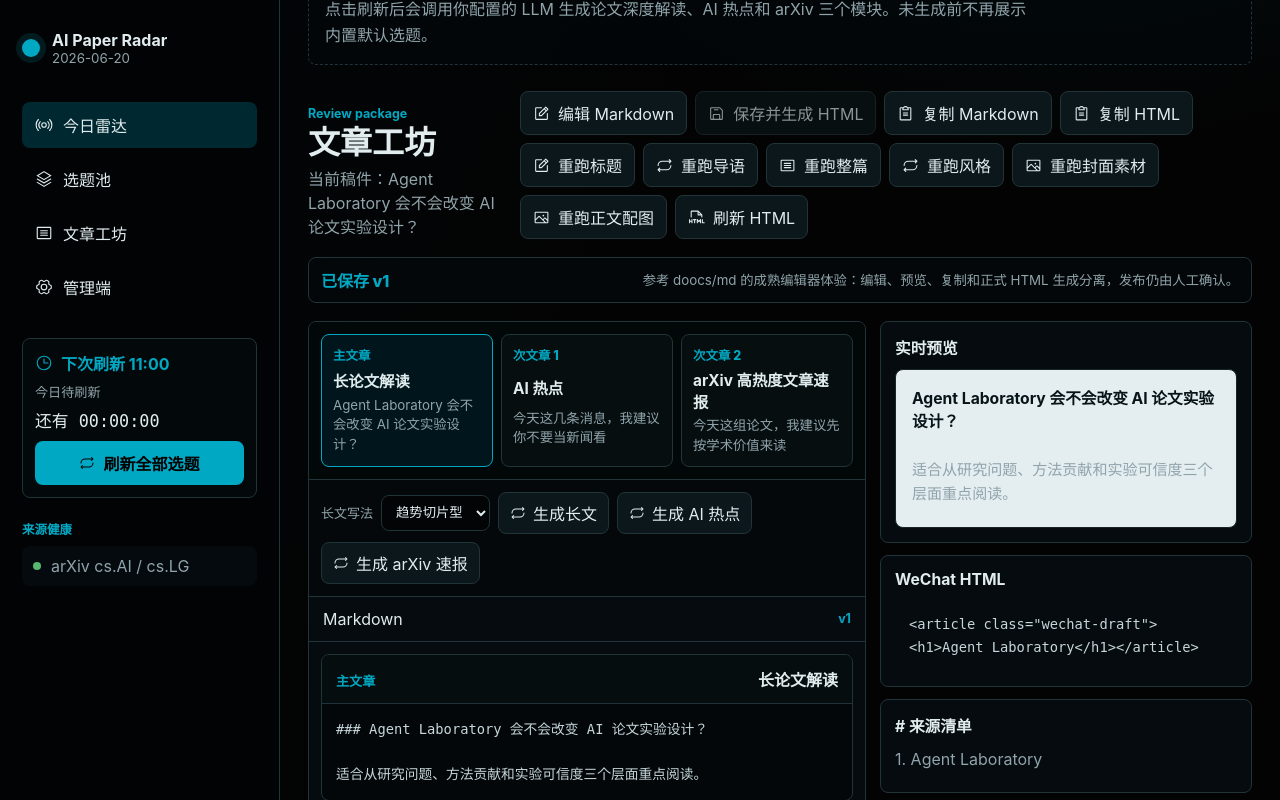
Test: updates the live preview to only render the selected article module
(page scrolled)
Click the tab "次文章 1 AI 热点 今天这几条消息，我建议你不要当新闻看" at (587, 400), box [501,334,673,467]
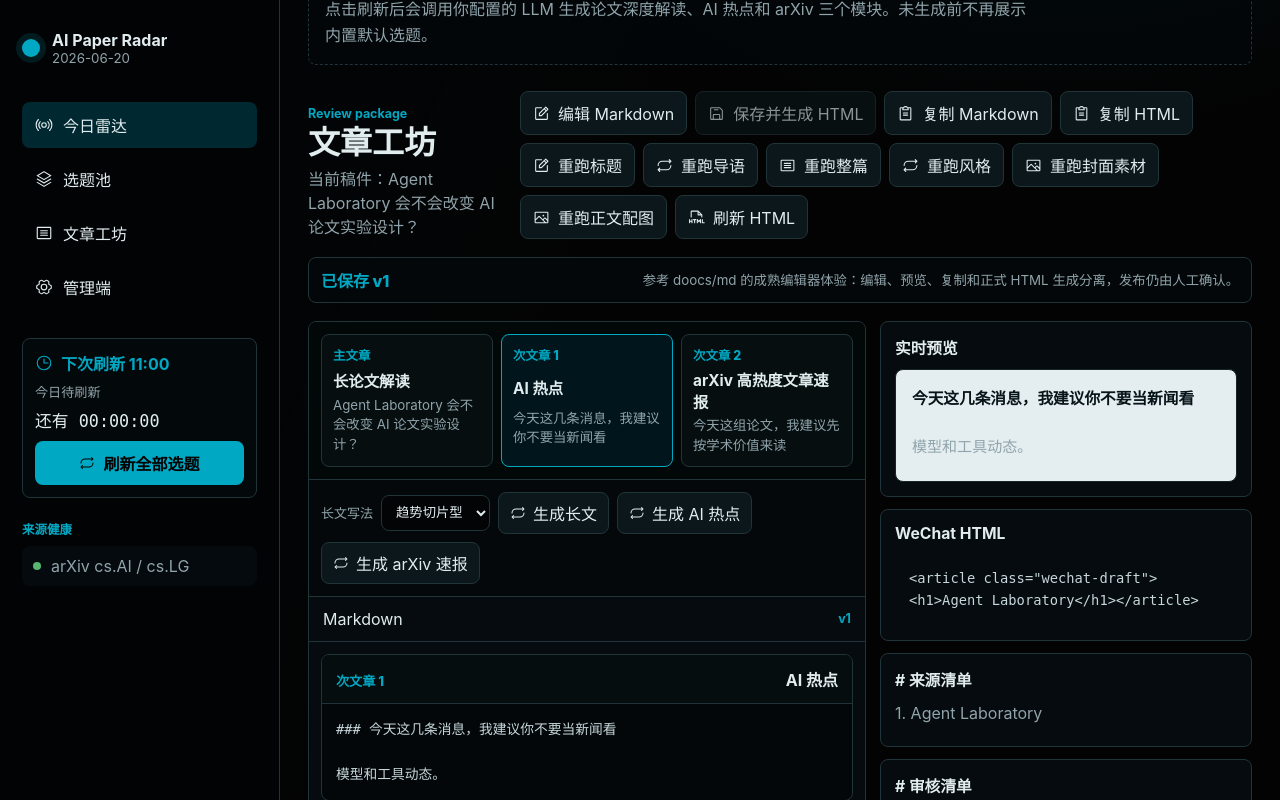
Check: the heading "今天这几条消息，我建议你不要当新闻看" is shown, box [912,386,1220,409]
Check: the element with test id "wechat-live-preview" shows "模型和工具动态。", box [912,437,1032,456]
Check: the element with test id "wechat-live-preview" no longer shows "适合从研究问题、方法贡献和实验可信度三个层面重点阅读。", box [895,369,1237,482]
